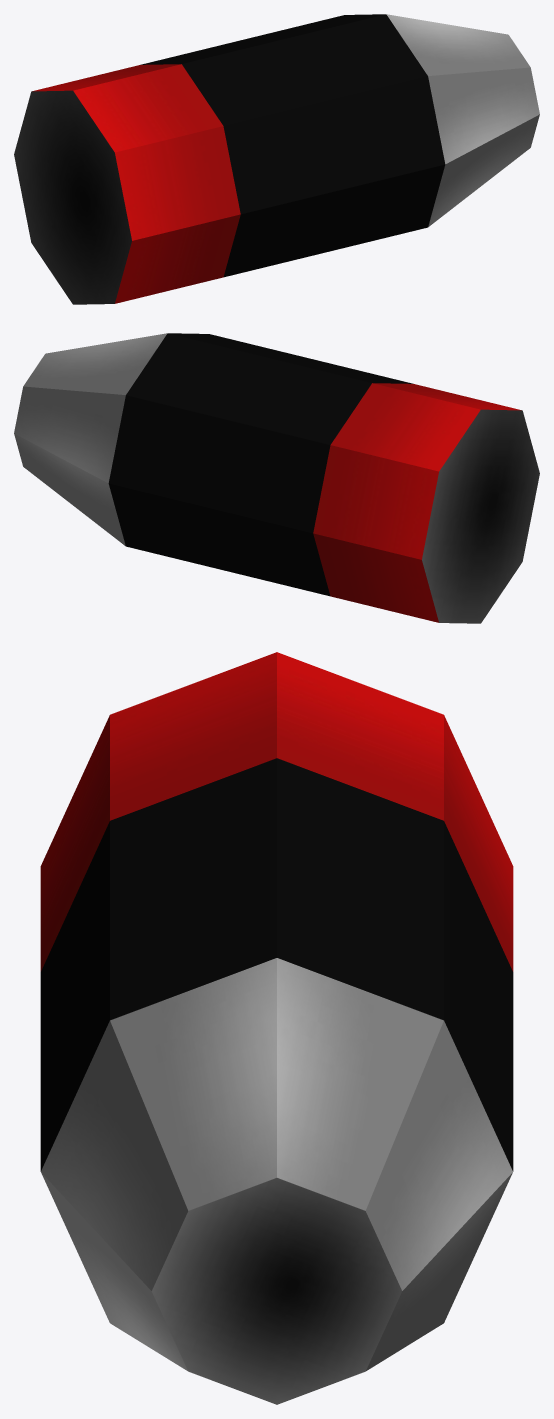
Rendered from bulletRocket.fbx.
The picture shows the model from 3 angles, top to bottom: view 1: azimuth 30°, elevation 25°; view 2: azimuth 150°, elevation 25°; view 3: azimuth 270°, elevation 25°; orthographic projection. The views are drawn at different scales.
Parts seen in each view (by area): view 1: BulletRocket; view 2: BulletRocket; view 3: BulletRocket.
Part boxes in pixels (x1=…): BulletRocket: x1=14, y1=14, x2=539, y2=304; BulletRocket: x1=14, y1=333, x2=539, y2=623; BulletRocket: x1=40, y1=652, x2=513, y2=1404.
Bounding box in the file's own units: 4.26 × 2 × 2.
